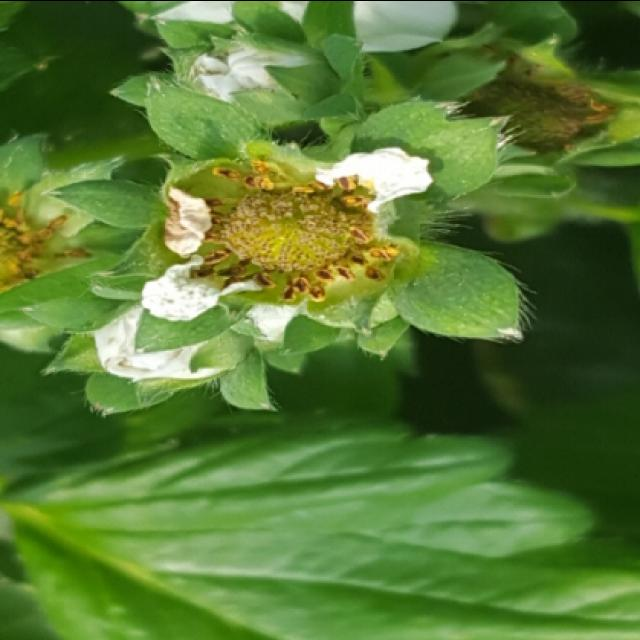Blossom Blight: (167, 149, 404, 310)
